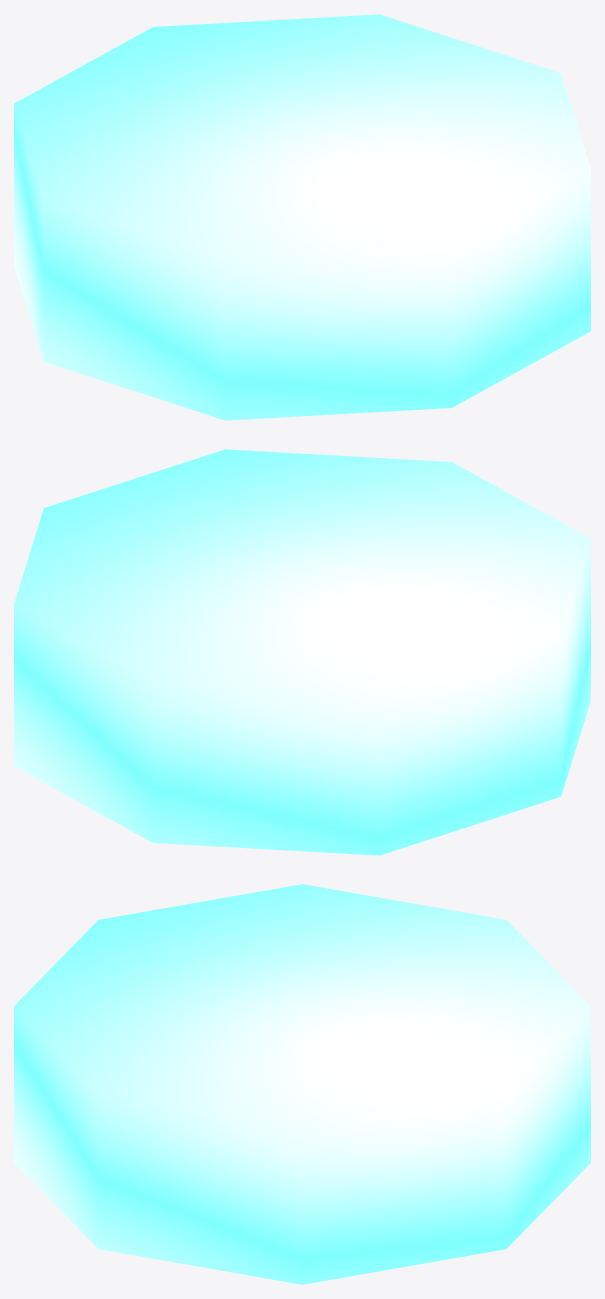
Rendered from fx_glaive.glb.
The picture shows the model from 3 angles, top to bottom: view 1: azimuth 30°, elevation 25°; view 2: azimuth 150°, elevation 25°; view 3: azimuth 270°, elevation 25°; orthographic projection. The views are drawn at different scales.
Visible parts, largest first — view 1: fx_glaive_metal; view 2: fx_glaive_metal; view 3: fx_glaive_metal.
Part boxes in pixels (bbox=[...]): fx_glaive_metal: bbox=[14, 14, 590, 420]; fx_glaive_metal: bbox=[14, 449, 590, 855]; fx_glaive_metal: bbox=[14, 884, 590, 1284].
Size of what is drawn, in the model's own units: 0.2 by 0.06 by 0.2.
